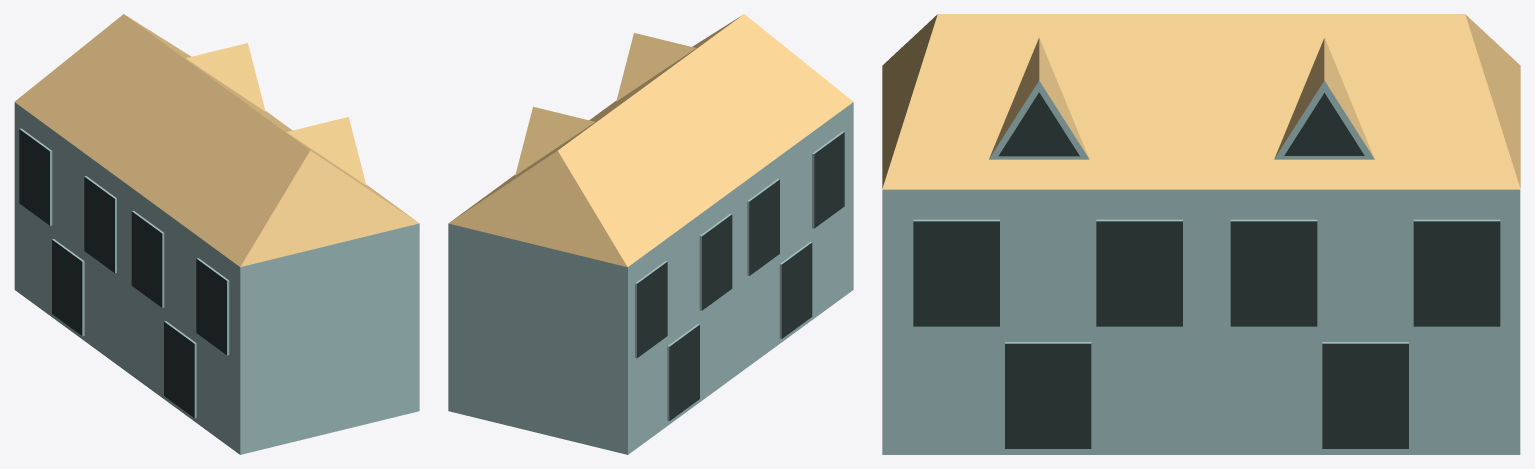
Rendered from House C.fbx.
3 views of the same model, side by side, from view 1: azimuth 30°, elevation 25°; view 2: azimuth 150°, elevation 25°; view 3: azimuth 270°, elevation 25° (orthographic). The views are drawn at different scales.
Parts seen in each view (by area): view 1: House Model 3; view 2: House Model 3; view 3: House Model 3.
Part boxes in pixels (box(x1,y1,x2,y2)): House Model 3: box(14, 14, 419, 454); House Model 3: box(448, 14, 853, 454); House Model 3: box(882, 14, 1520, 454).
Size of the model in its own units: 410 by 571 by 872.
